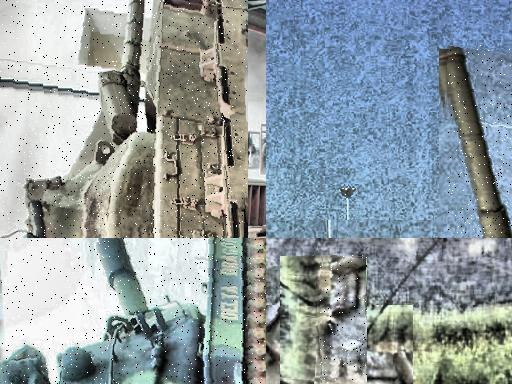tanks: (23, 1, 247, 239), (1, 239, 267, 384), (449, 47, 510, 239), (321, 257, 368, 384), (281, 381, 289, 384)
